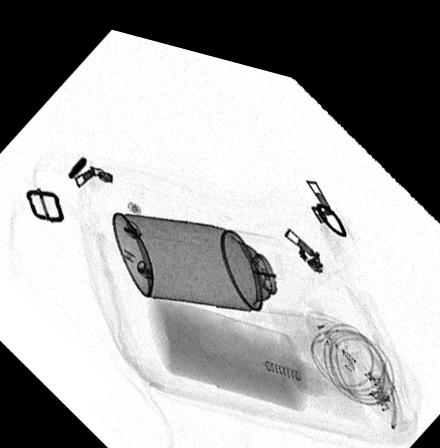Sprayer: (112, 206, 315, 301)
